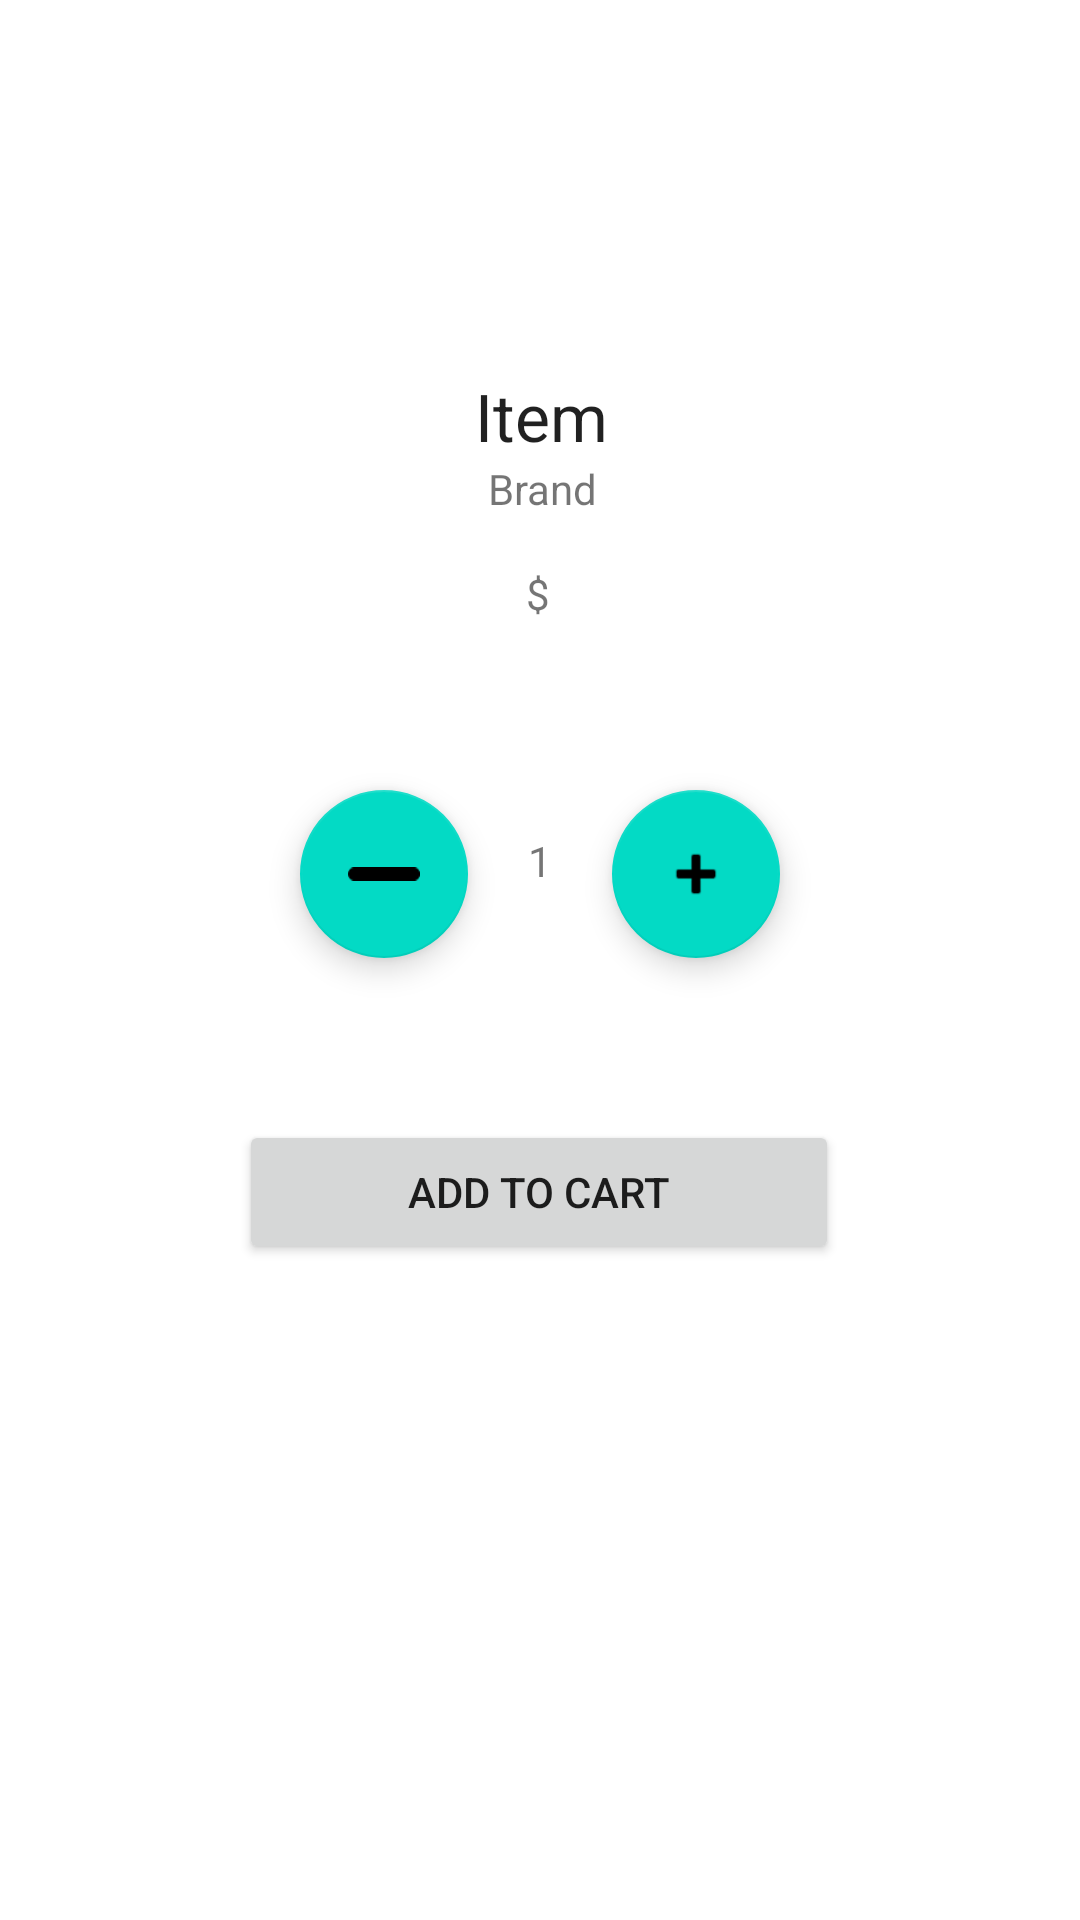

Where to tap for icons on this 1080 x 1920 app screen, as [x,y]:
add: [696,874]
